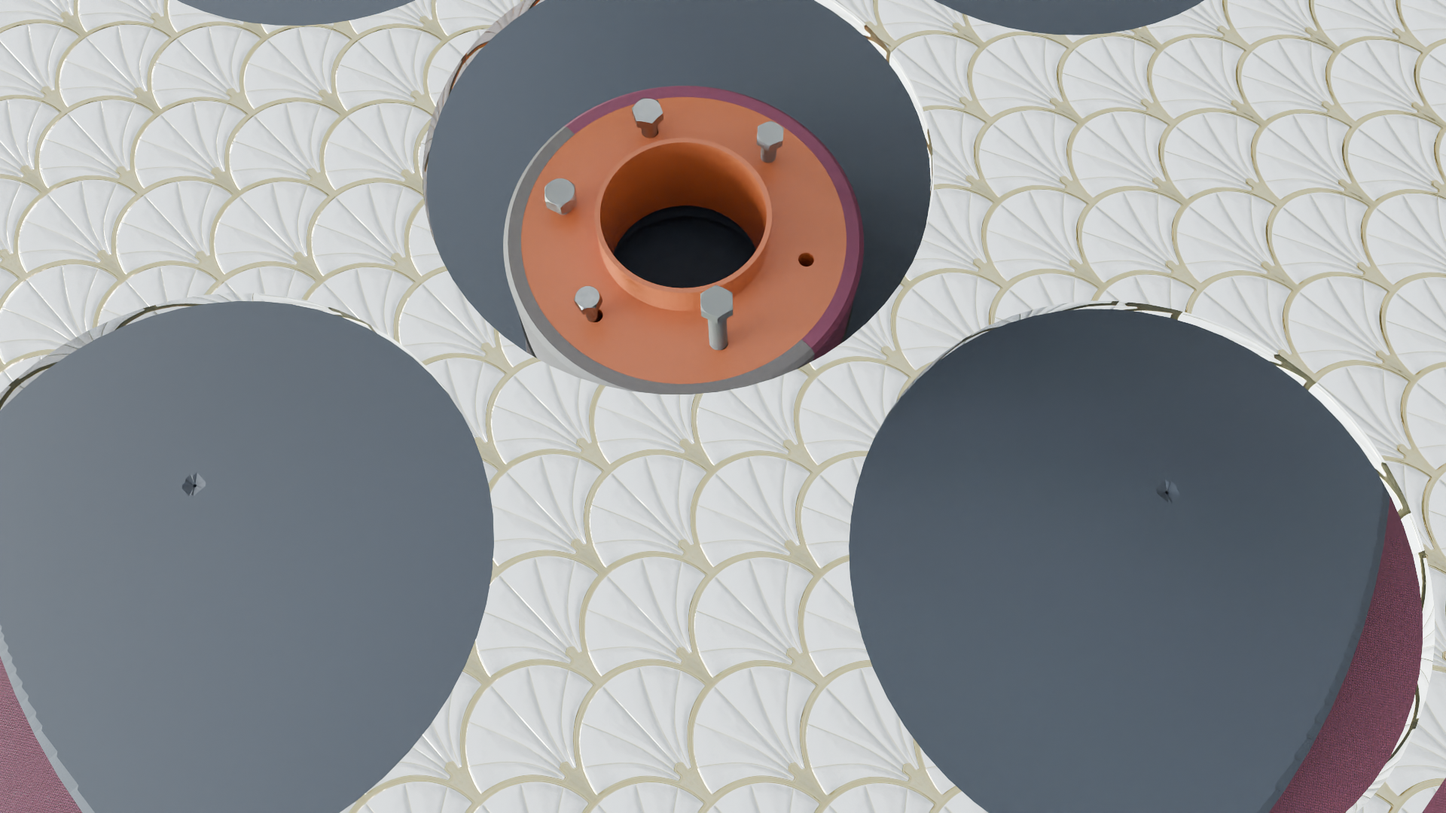bolt: (700, 285, 733, 318), (545, 178, 575, 208), (632, 98, 663, 123), (757, 120, 784, 146), (574, 286, 601, 310)
